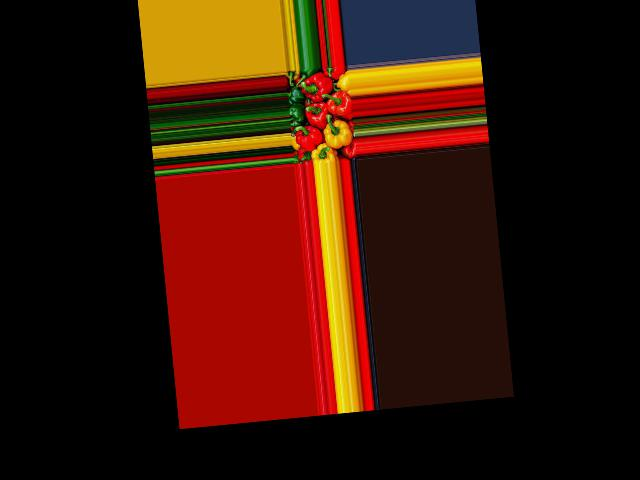bell_pepper: (336, 73, 351, 91)
